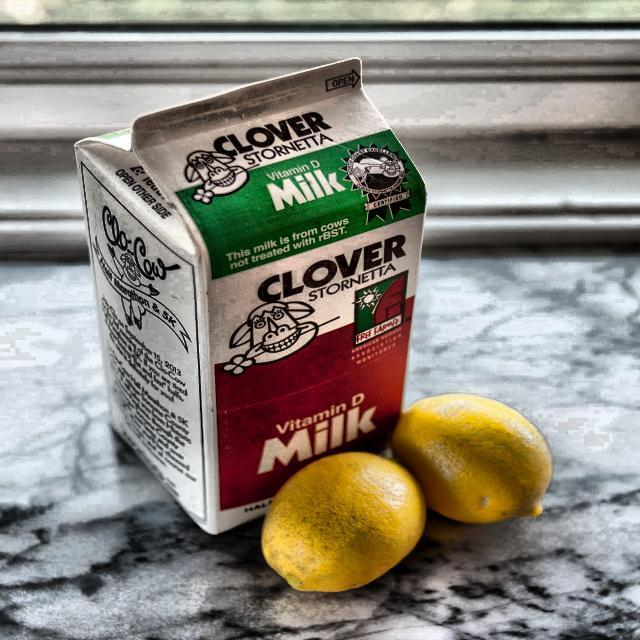cardboard: (72, 57, 428, 536)
